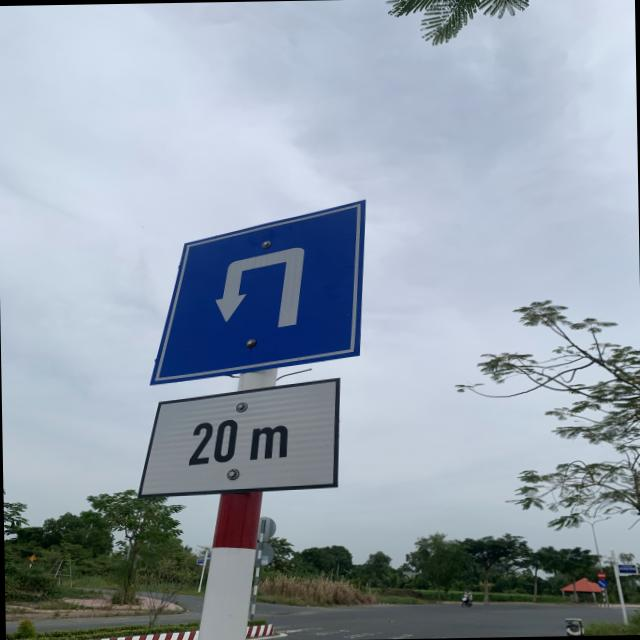Den_Giao_Thong: (138, 202, 370, 381)
